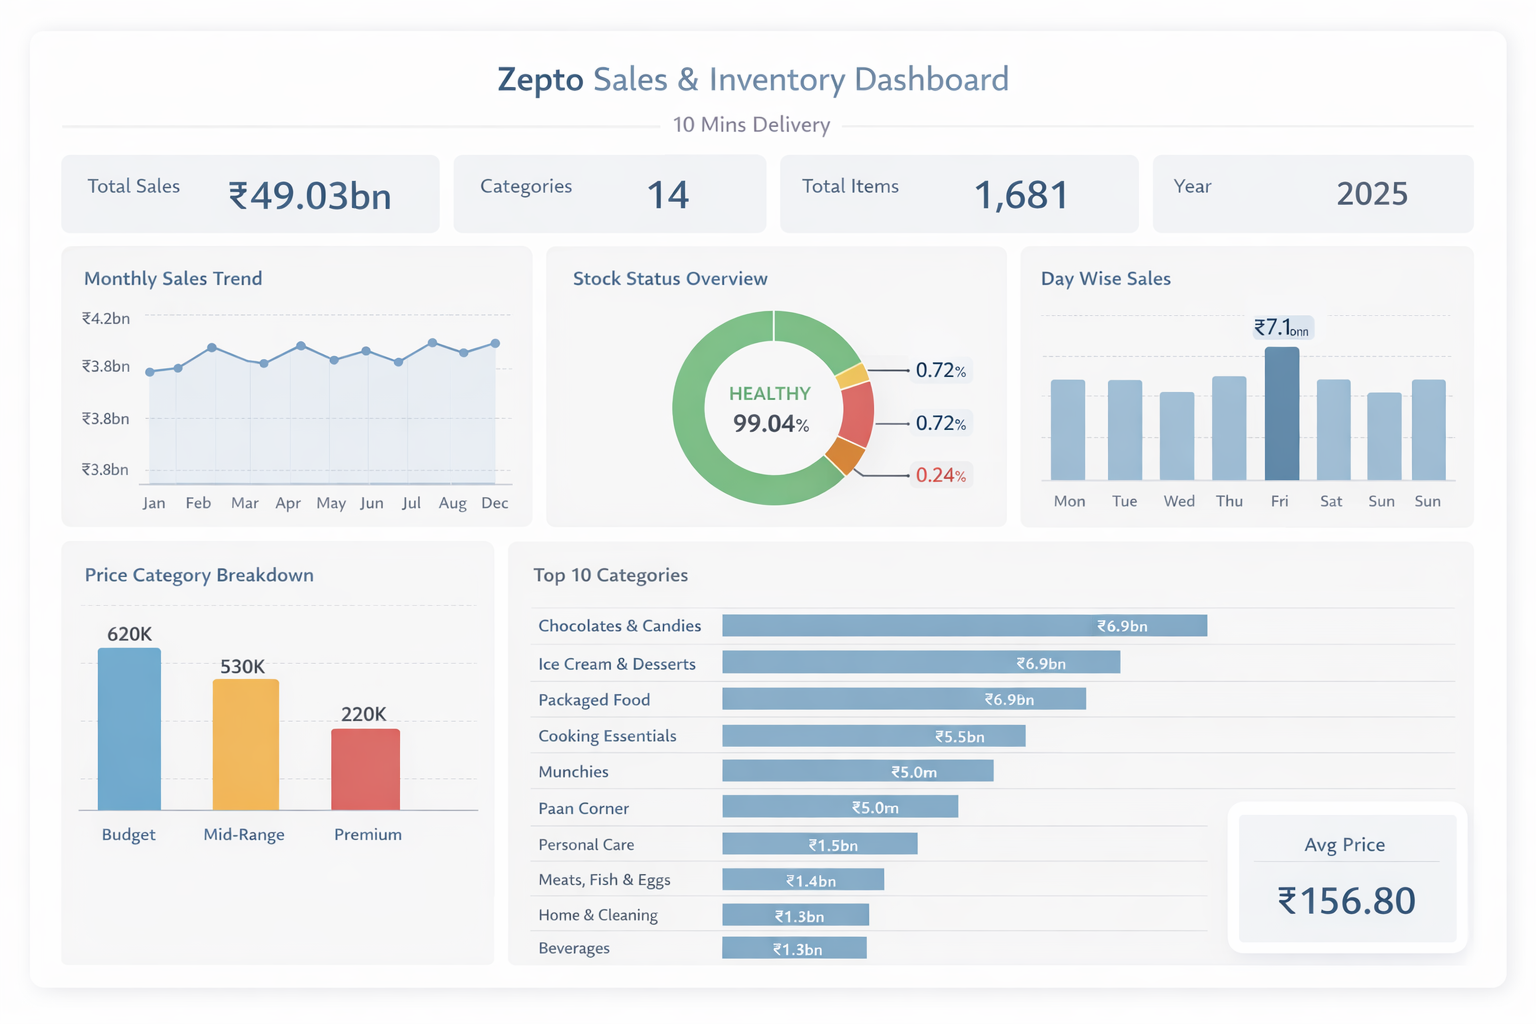

The page's visual inventory and layout, read from the dashboard file:
{"tool":"powerbi","page":{"name":"Page 1","canvas":[1280,1000],"ordinal":0},"visuals":[{"type":"textbox","box":[0,0,1280,146.3],"z":0},{"type":"image","box":[1196.4,17.4,67.9,83.6],"z":1000},{"type":"image","box":[61,17.4,62.7,92.3],"z":2000},{"type":"image","box":[924.7,17.4,259.5,74.9],"z":3000},{"type":"textbox","box":[924.7,92.3,259.5,40.1],"z":4000},{"type":"textbox","box":[12.2,158.5,256,841.1],"z":5000},{"type":"cardVisual","fields":{"Data":["Sum(ZeptoData.Total Sales)"]},"box":[325.7,158.5,243.8,106.2],"z":6000},{"type":"cardVisual","fields":{"Data":["CountNonNull(Category.CategoryID)"]},"box":[581.7,158.5,224.7,106.2],"z":7000},{"type":"cardVisual","fields":{"Data":["CountNonNull(ItemName.ItemNameID)"]},"box":[820.2,158.5,278.6,106.2],"z":8000},{"type":"slicer","fields":{"Values":["ZeptoData.Dates.Variation.Date Hierarchy.Year"]},"box":[45.3,175.9,170.7,71.4],"z":9000},{"type":"slicer","fields":{"Values":["ZeptoData.Dates.Variation.Date Hierarchy.Month"]},"box":[45.3,264.7,174.1,376.2],"z":10000},{"type":"slicer","fields":{"Values":["ZeptoData.Price_Category"]},"box":[45.3,670.5,174.1,137.6],"z":11000},{"type":"slicer","fields":{"Values":["ZeptoData.Stock Status"]},"box":[45.3,839.4,174.1,137.6],"z":12000},{"type":"lineChart","title":"Monthly sales trend","fields":{"Category":["ZeptoData.Date_master.Variation.Date Hierarchy.Month"],"Y":["Sum(ZeptoData.Total Sales)"]},"box":[292.6,301.3,620,369.2],"z":13000},{"type":"columnChart","title":"Price_Category","fields":{"Category":["ZeptoData.Price_Category"],"Y":["CountNonNull(ZeptoData.Price_Category)"]},"box":[924.7,301.3,355.3,369.2],"z":14000},{"type":"donutChart","fields":{"Category":["ZeptoData.Stock Status"],"Y":["Sum(ZeptoData.Total Sales)"]},"box":[292.6,698.3,445.8,301.3],"z":15000},{"type":"advancedSlicerVisual","title":"Top 10 categoeies ","fields":{"Values":["Category.Category"],"Label":["Sum(ZeptoData.Total Sales)"]},"box":[761,698.3,503.3,301.3],"z":15001}]}

Visuals, with their boxes on the page's 1280x1000 design canvas (x1, y1, x2, y2). These are canvas units, not pixel positions in the 1536x1024 screenshot, which may show the page scaled, cropped or inside an application window:
textbox: pyautogui.locateOnScreen(0, 0, 1280, 146)
image: pyautogui.locateOnScreen(1196, 17, 1264, 101)
image: pyautogui.locateOnScreen(61, 17, 124, 110)
image: pyautogui.locateOnScreen(925, 17, 1184, 92)
textbox: pyautogui.locateOnScreen(925, 92, 1184, 132)
textbox: pyautogui.locateOnScreen(12, 158, 268, 1000)
cardVisual - Sum(ZeptoData.Total Sales): pyautogui.locateOnScreen(326, 158, 570, 265)
cardVisual - CountNonNull(Category.CategoryID): pyautogui.locateOnScreen(582, 158, 806, 265)
cardVisual - CountNonNull(ItemName.ItemNameID): pyautogui.locateOnScreen(820, 158, 1099, 265)
slicer - ZeptoData.Dates.Variation.Date Hierarchy.Year: pyautogui.locateOnScreen(45, 176, 216, 247)
slicer - ZeptoData.Dates.Variation.Date Hierarchy.Month: pyautogui.locateOnScreen(45, 265, 219, 641)
slicer - ZeptoData.Price_Category: pyautogui.locateOnScreen(45, 670, 219, 808)
slicer - ZeptoData.Stock Status: pyautogui.locateOnScreen(45, 839, 219, 977)
"Monthly sales trend" lineChart: pyautogui.locateOnScreen(293, 301, 913, 670)
"Price_Category" columnChart: pyautogui.locateOnScreen(925, 301, 1280, 670)
donutChart - ZeptoData.Stock Status x Sum(ZeptoData.Total Sales): pyautogui.locateOnScreen(293, 698, 738, 1000)
"Top 10 categoeies " advancedSlicerVisual: pyautogui.locateOnScreen(761, 698, 1264, 1000)
